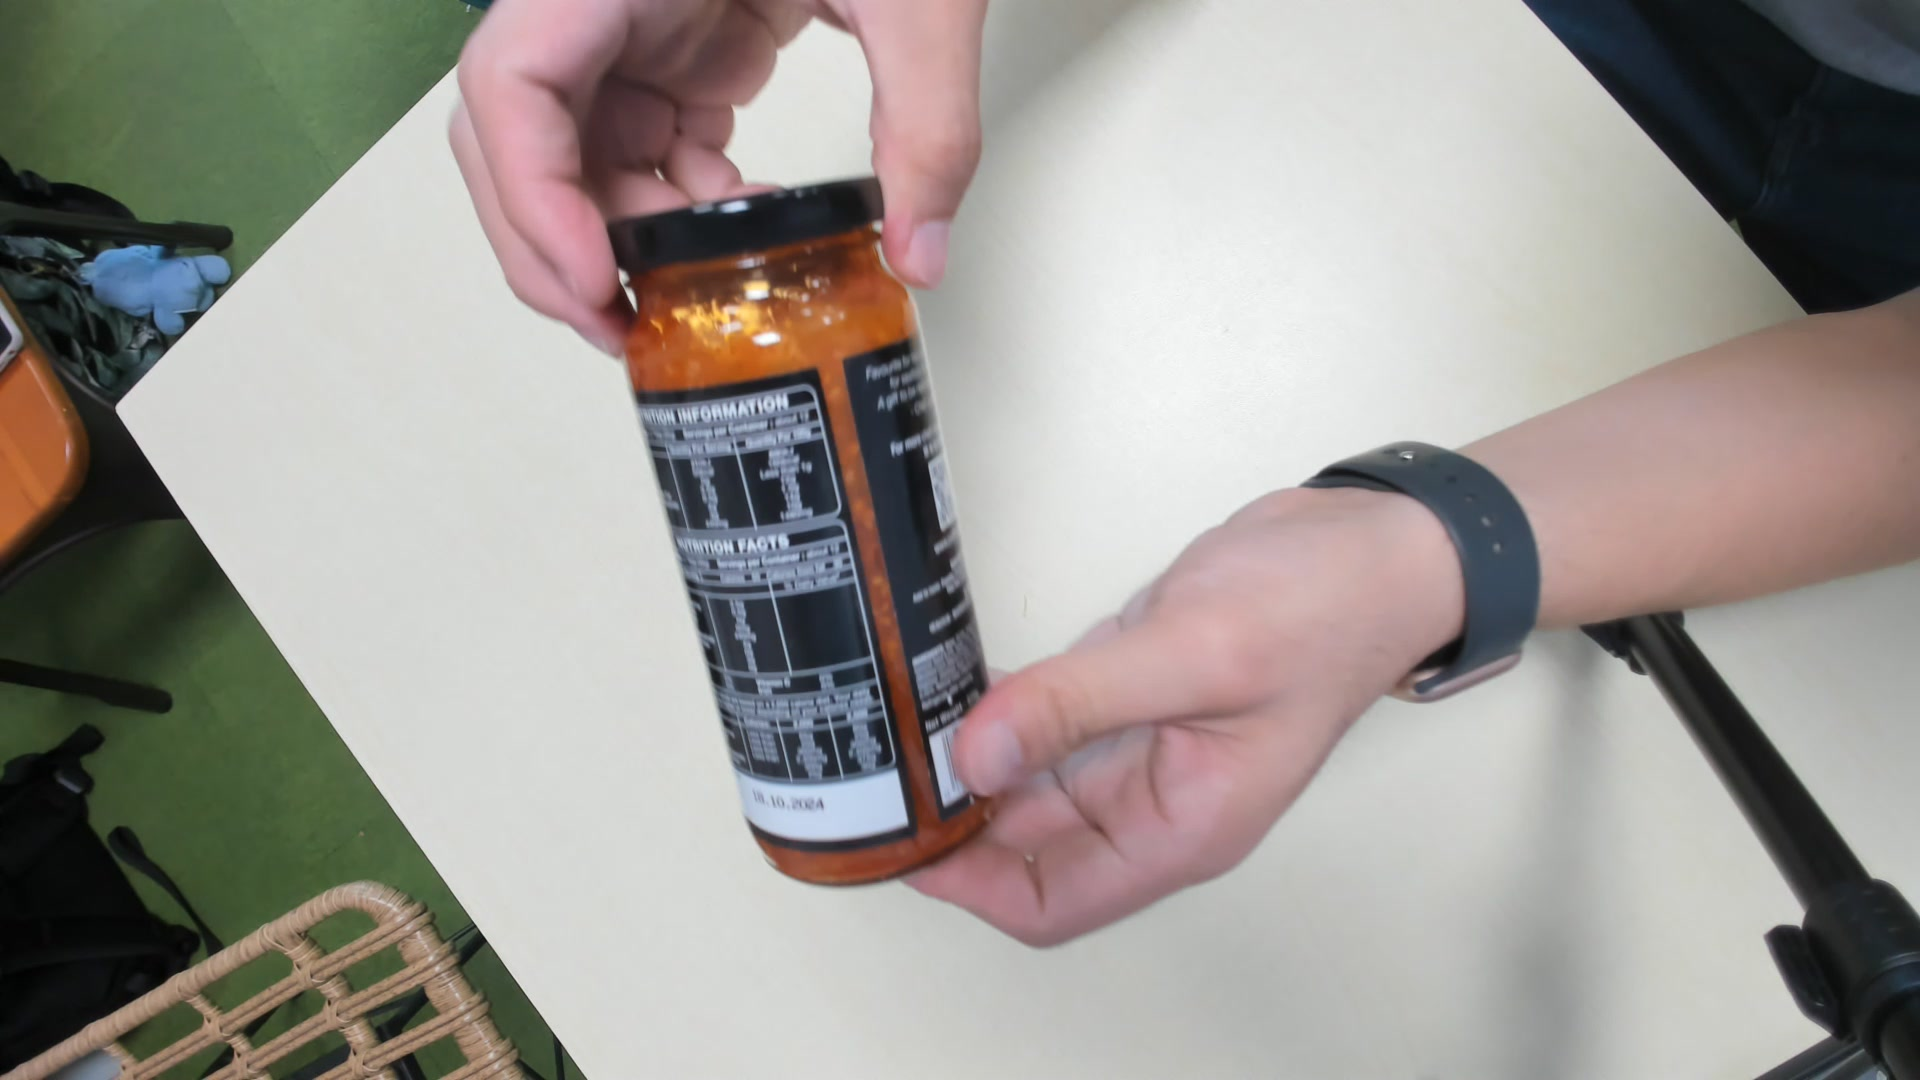OtherSauceDressing_300-399g_NonHalal_NonHealthy: (608, 175, 997, 885)
